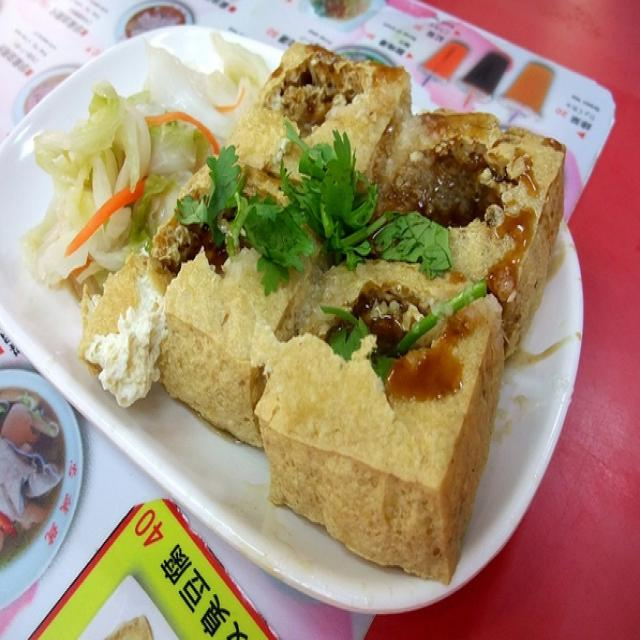豆腐料理: (3, 19, 586, 618)
